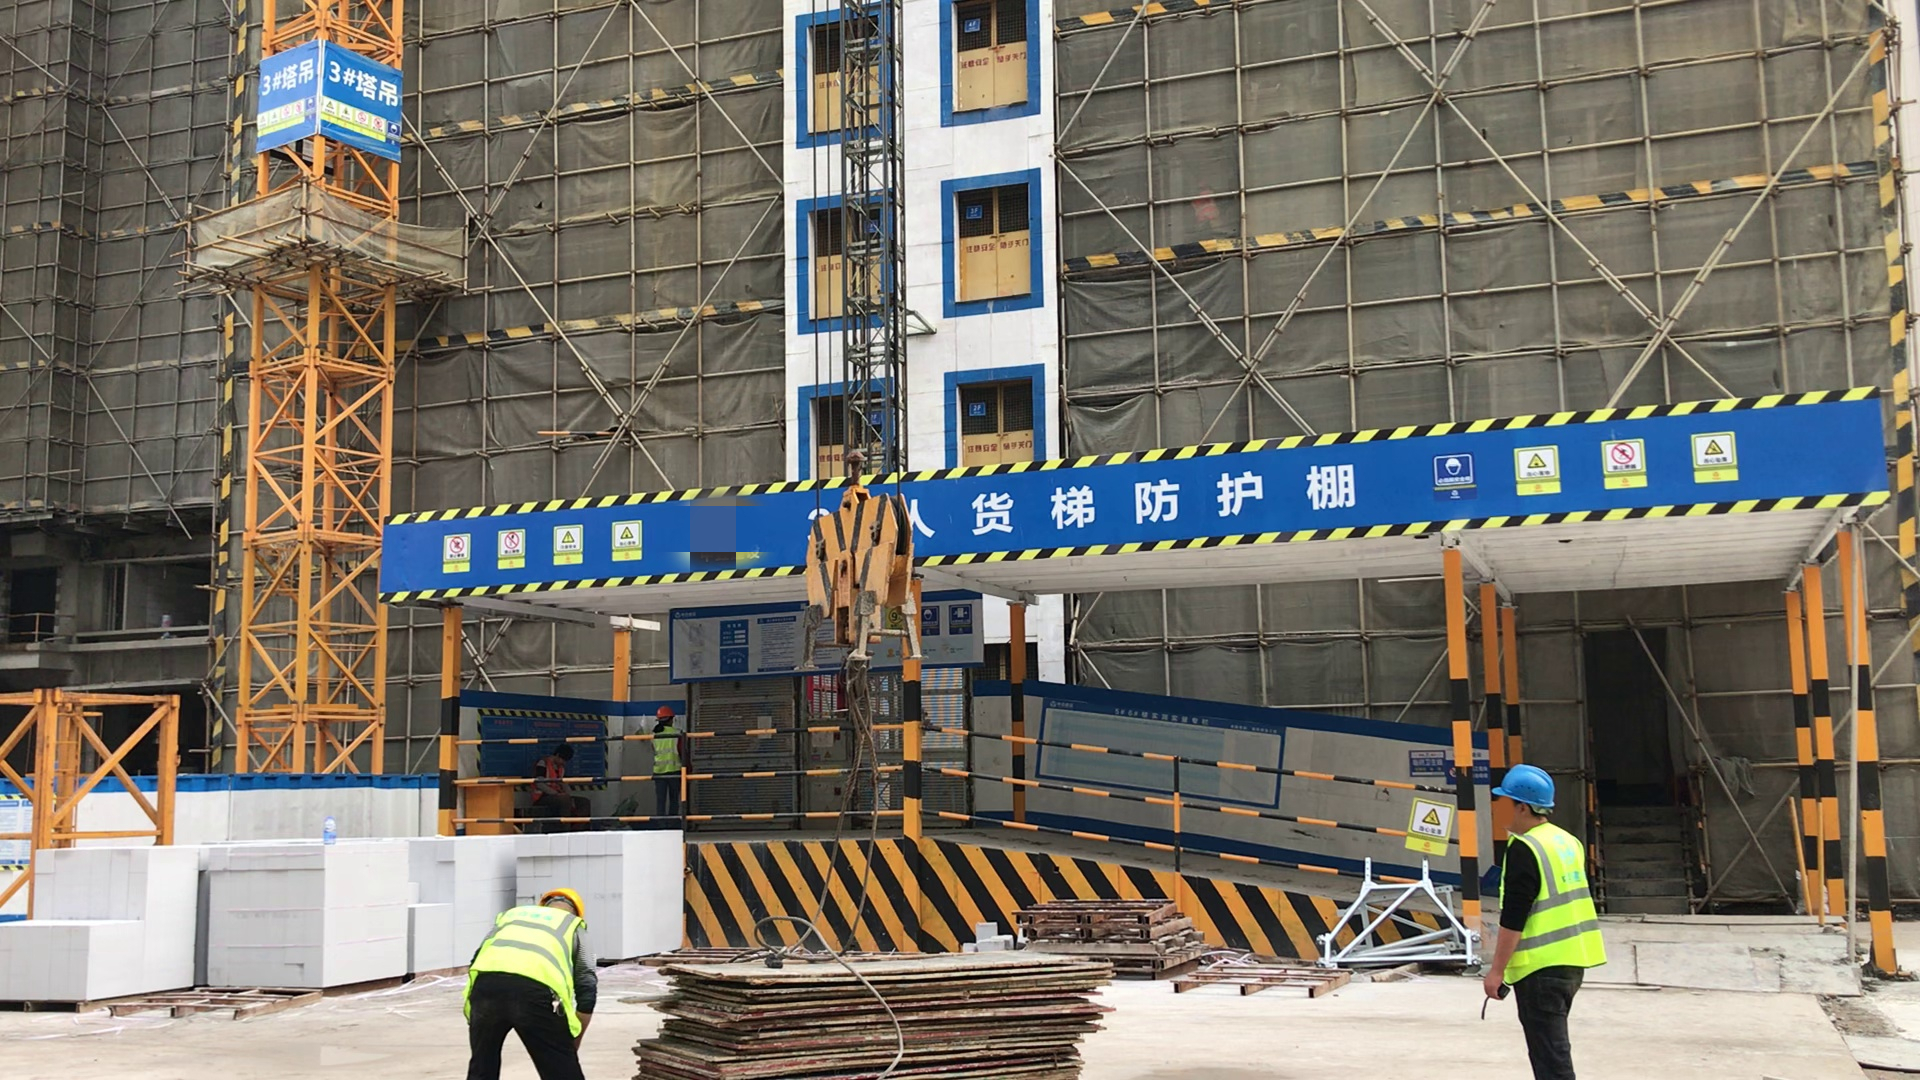board: (639, 957, 1122, 1080)
brick: (1, 839, 477, 1000), (485, 832, 681, 935)
ebox: (456, 778, 512, 829)
helmet: (1491, 763, 1556, 810), (538, 888, 588, 918), (654, 705, 676, 720)
hook: (797, 477, 929, 726)
person: (1476, 756, 1609, 1080), (465, 889, 602, 1080), (646, 706, 690, 830), (534, 744, 595, 823)
slogan: (966, 459, 1358, 541), (1431, 431, 1755, 506), (251, 53, 405, 153), (428, 517, 649, 578), (1405, 794, 1453, 863)
vest: (1499, 830, 1607, 981), (472, 906, 587, 1025), (652, 726, 682, 773), (539, 758, 566, 800)
